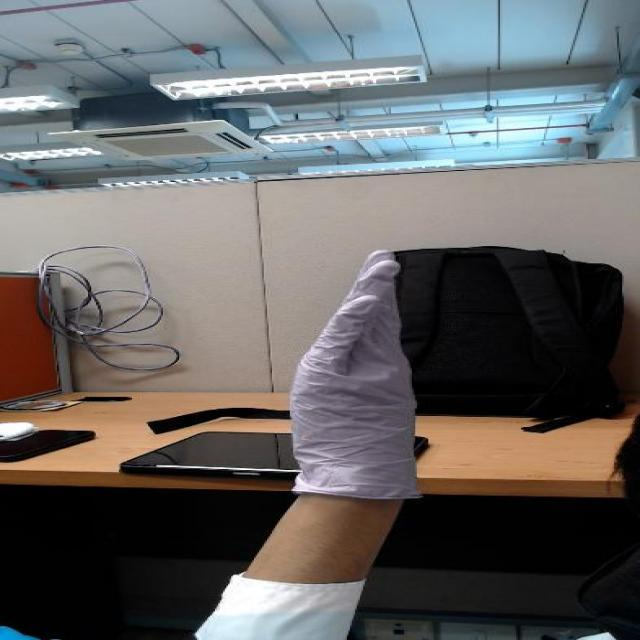with_gloves: (250, 242, 447, 436)
